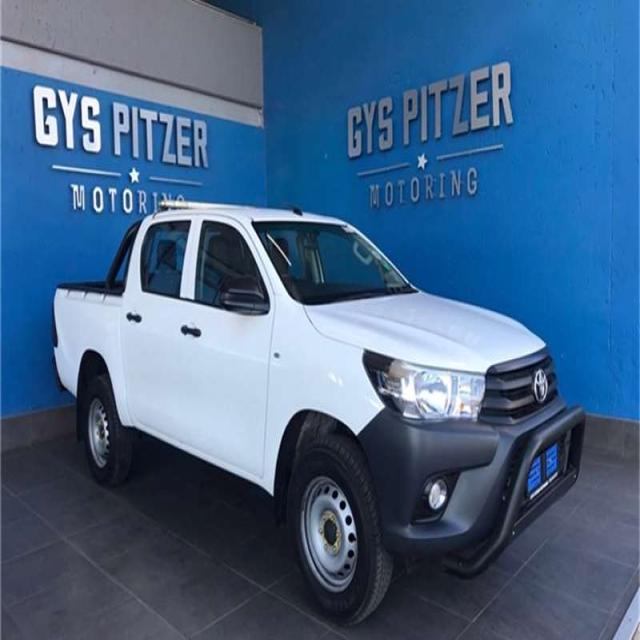light_vehicle: (37, 193, 588, 639)
